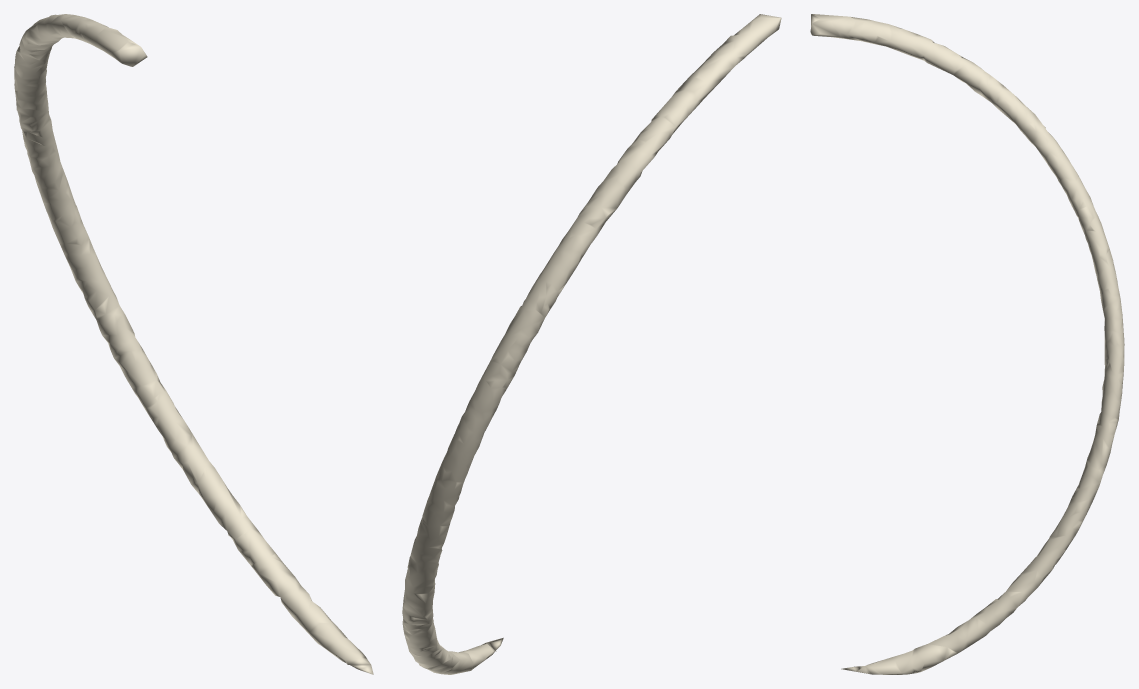
File: rib_9_r.glb
3 views of the same model, side by side, from view 1: azimuth 30°, elevation 25°; view 2: azimuth 150°, elevation 25°; view 3: azimuth 270°, elevation 25° (orthographic). The views are drawn at different scales.
Parts seen in each view (by area): view 1: geometry_0; view 2: geometry_0; view 3: geometry_0.
Boxes of the visible parts, x1,y1,x2,y2 form: geometry_0: [14, 14, 373, 674]; geometry_0: [402, 14, 781, 674]; geometry_0: [810, 14, 1124, 674].
Bounding box in the file's own units: 0.3434 × 0.8009 × 0.4127.
